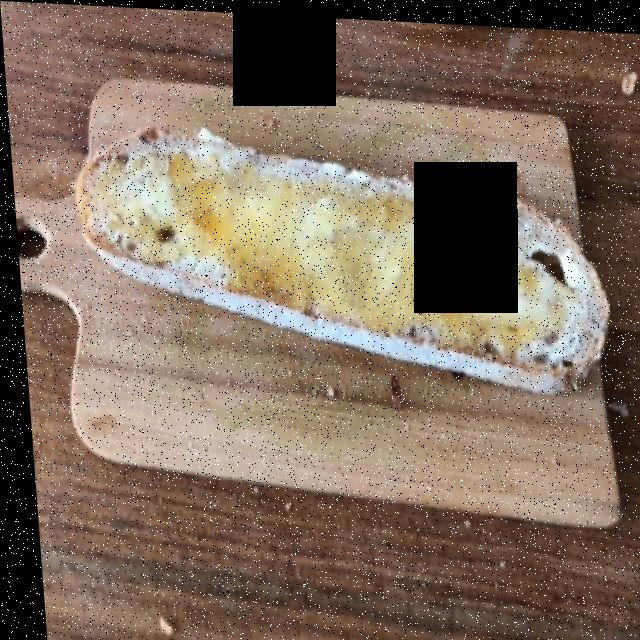bread-whole-wheat: (79, 132, 592, 367)
honey: (114, 149, 559, 334)
